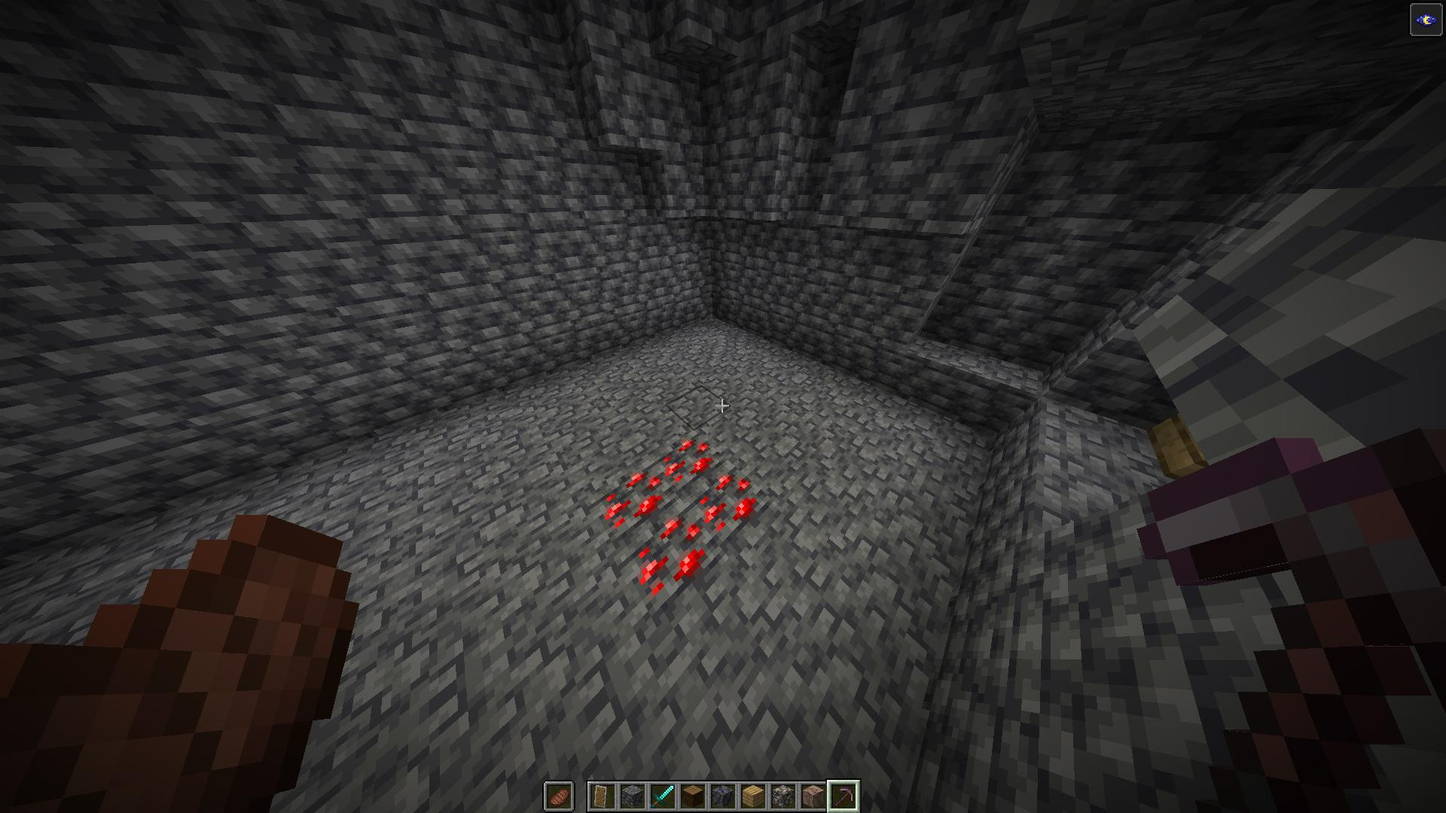redstone ore: (634, 518, 707, 599), (599, 473, 667, 532), (697, 474, 767, 529), (662, 437, 718, 484)
